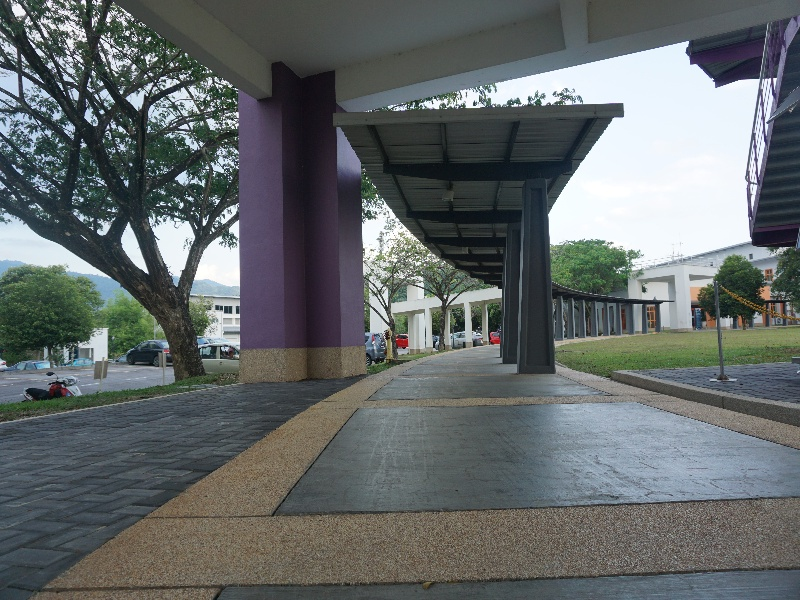Block D Pillar 6: (4, 3, 800, 565)
pillar: (227, 64, 377, 384), (515, 174, 560, 383)
